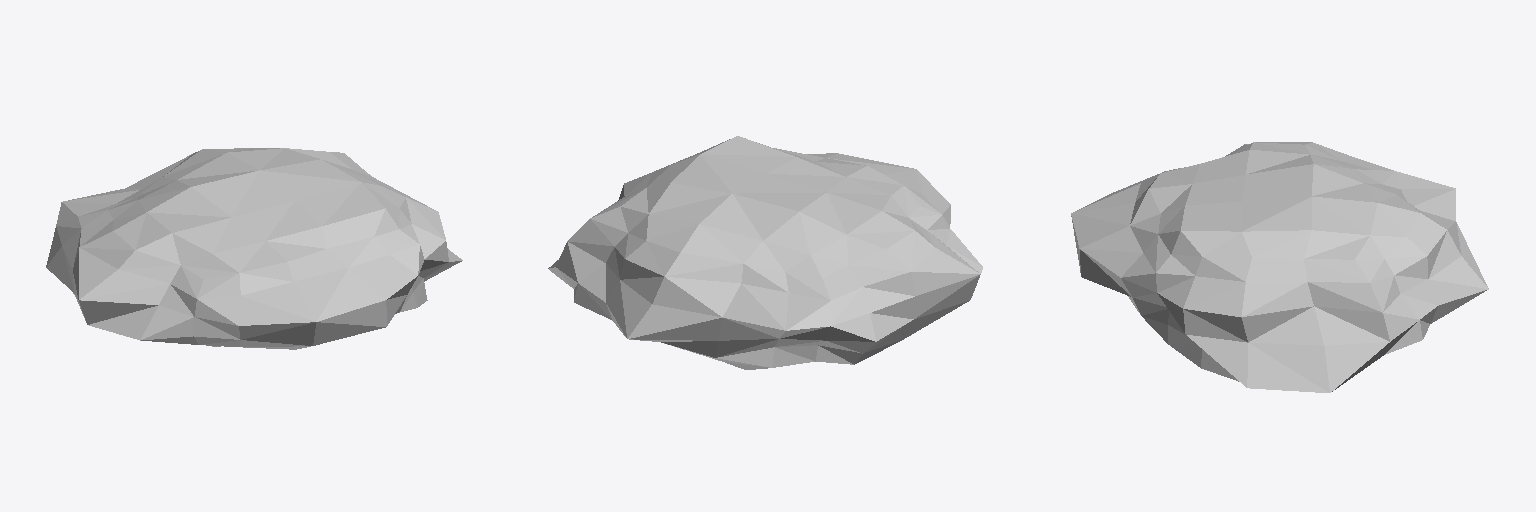
File: rock10.obj
The picture shows the model from 3 angles: view 1: azimuth 30°, elevation 25°; view 2: azimuth 150°, elevation 25°; view 3: azimuth 270°, elevation 25°; orthographic projection.
Visible parts, largest first — view 1: Mesh; view 2: Mesh; view 3: Mesh.
Boxes of the visible parts, <box> form: Mesh: <box>46,148,462,349</box>; Mesh: <box>548,136,982,369</box>; Mesh: <box>1071,142,1488,392</box>.
Size of the model in its own units: 4.05 by 1.37 by 3.76.